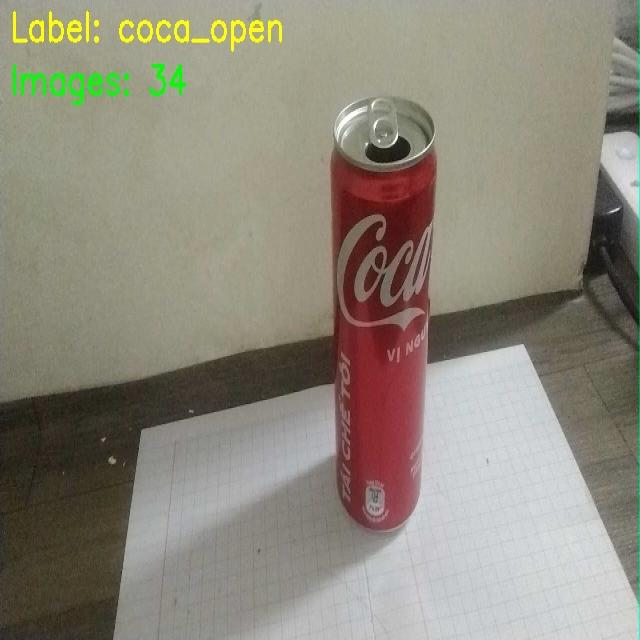Coca_open: (312, 67, 460, 536)
